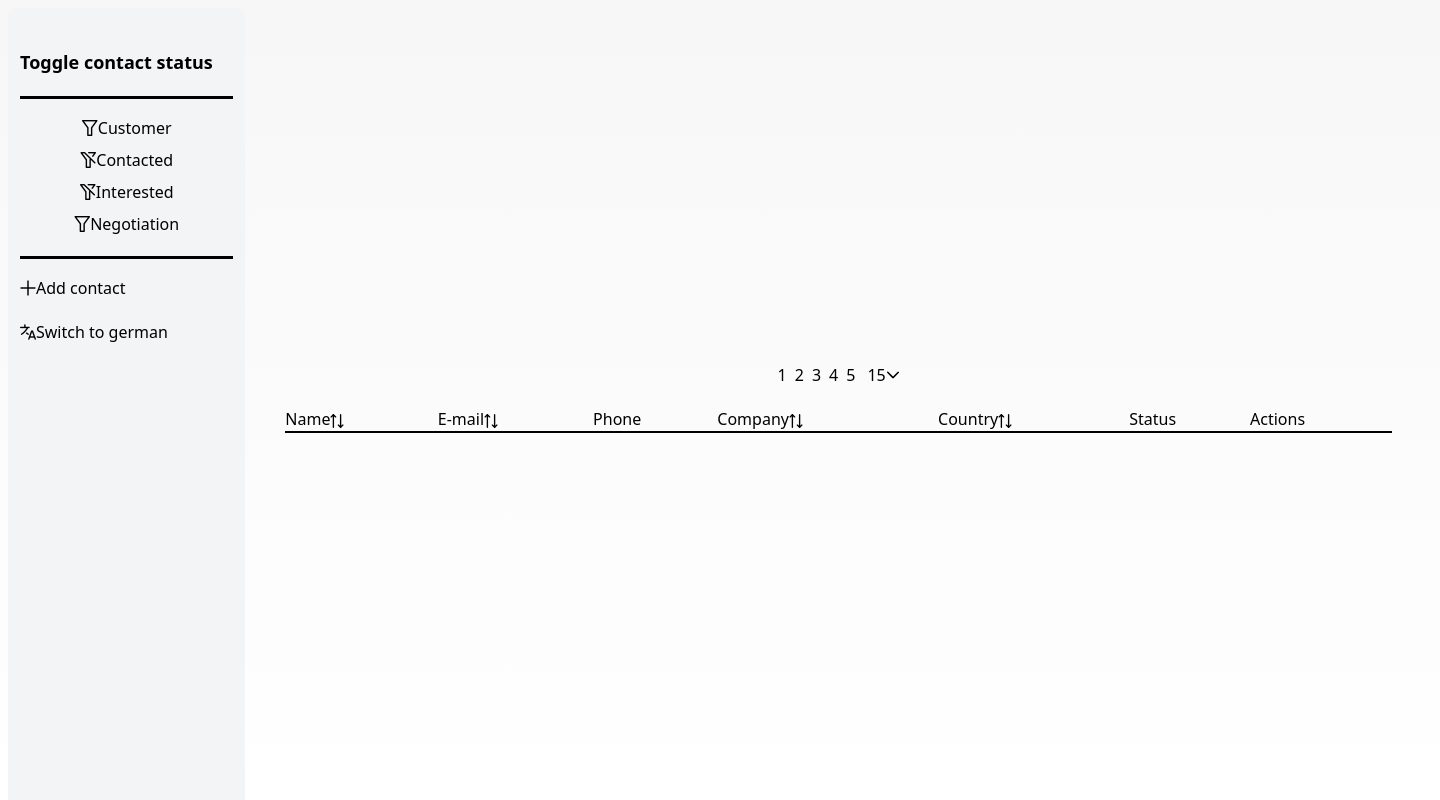
Test: compliance rules › switches language correctly
Expected: the text with test id "filters-header" reads "Toggle contact status", [20,48,213,76]
Expected: the text "Phone" is shown, [593,407,641,431]
Note: hit language btn
Click the button with test id "lang-toggle-btn": (94, 332) [20,320,168,344]
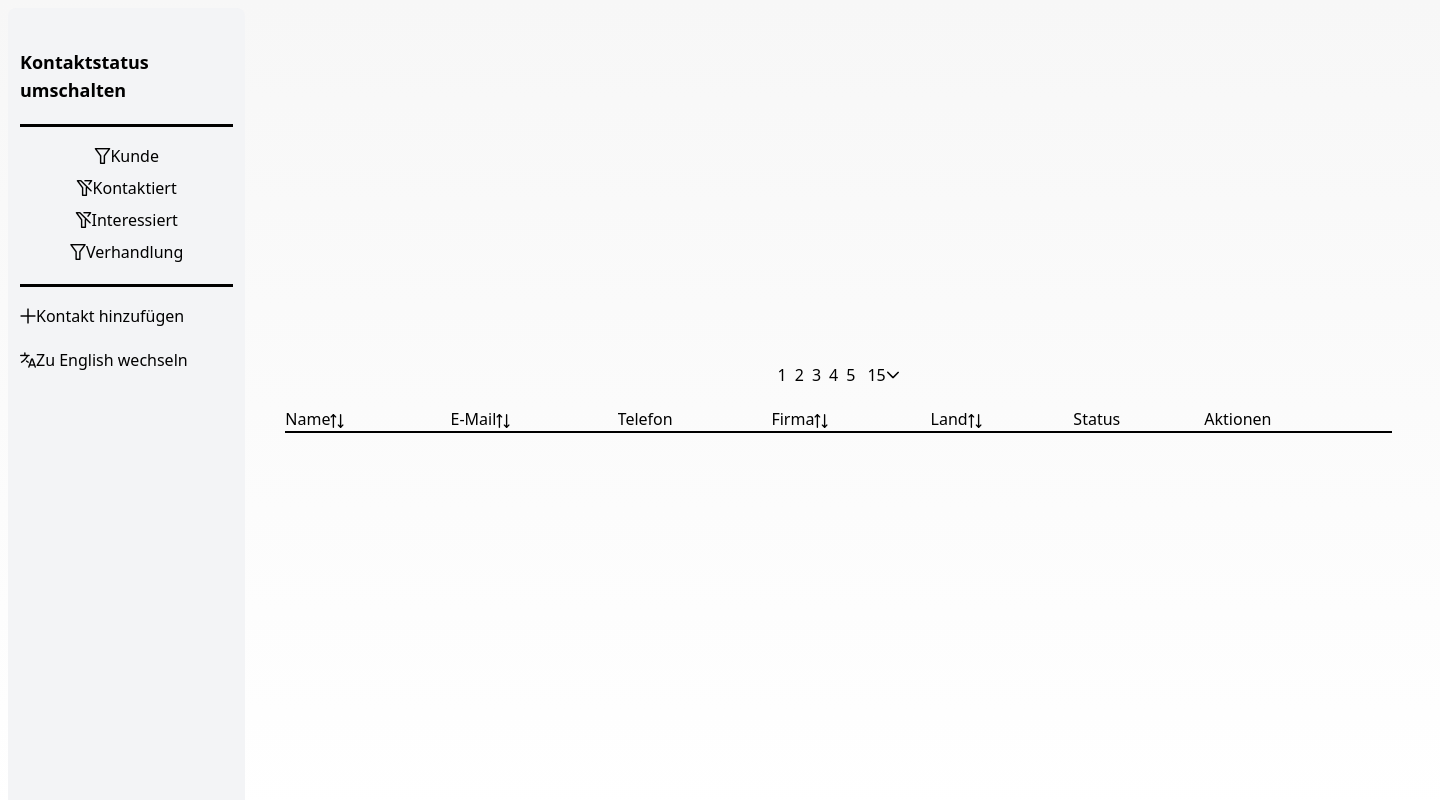
Result: the text with test id "filters-header" reads "Kontaktstatus umschalten" at [20,50,149,102]
Result: the text "Telefon" is shown at [618,407,673,431]
